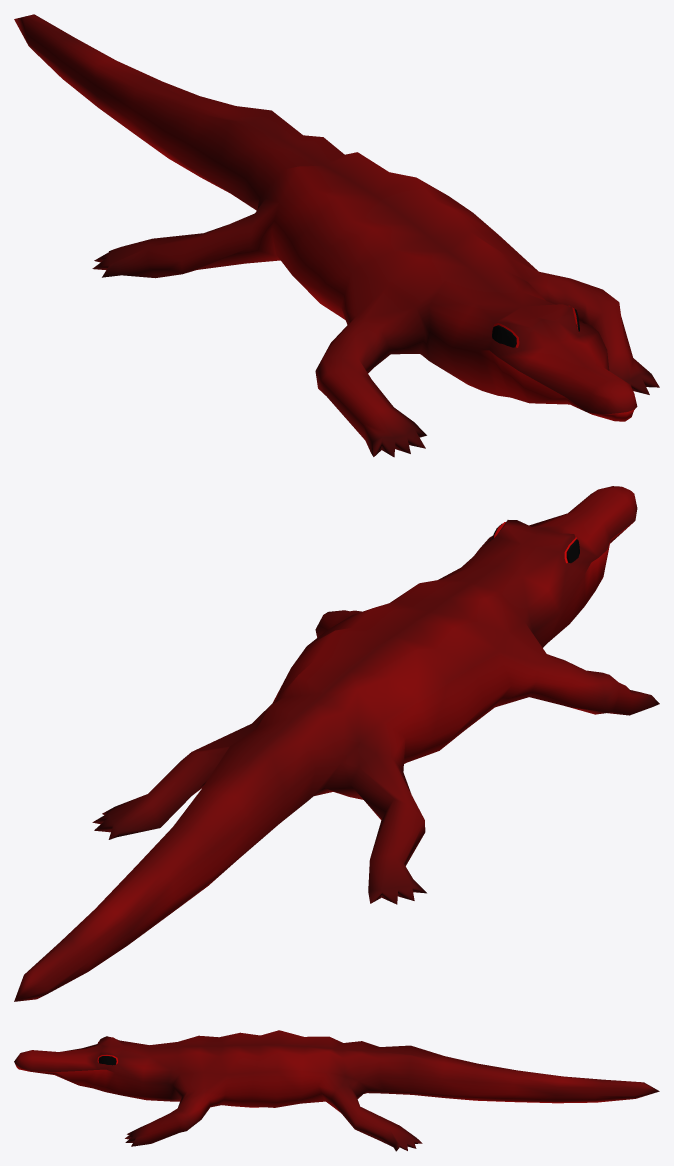
Rendered from Reptiles_Crocodile.fbx.
3 renders of one model, top to bottom at view 1: azimuth 30°, elevation 25°; view 2: azimuth 150°, elevation 25°; view 3: azimuth 270°, elevation 25°, orthographic. The views are drawn at different scales.
Parts seen in each view (by area): view 1: base; view 2: base; view 3: base.
Boxes of the visible parts, x1=… form: base: x1=14, y1=14, x2=659, y2=457; base: x1=14, y1=486, x2=659, y2=1001; base: x1=14, y1=1030, x2=659, y2=1151.
Size of the model in its own units: 144 by 55.45 by 468.
